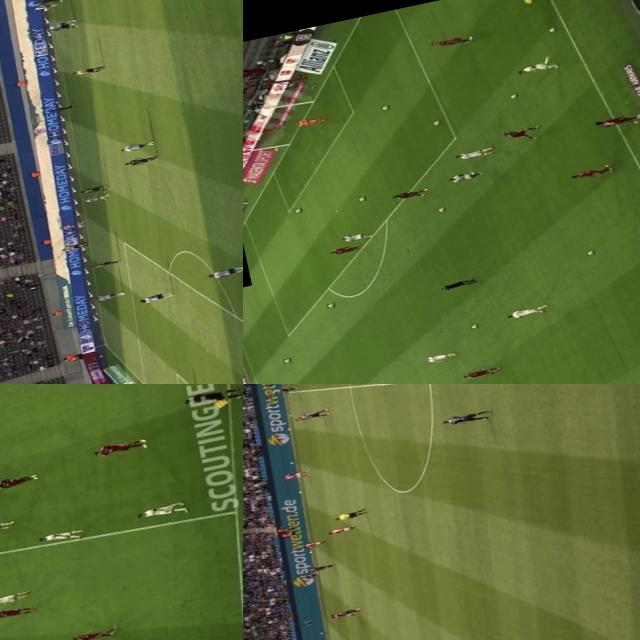ball: (434, 204, 447, 212), (295, 205, 306, 213), (356, 194, 366, 202), (583, 248, 596, 254), (545, 26, 558, 32), (378, 104, 389, 110), (282, 354, 291, 361), (432, 118, 441, 125), (326, 302, 336, 308), (468, 322, 478, 328), (508, 92, 515, 96), (64, 222, 70, 226)
player: (92, 431, 152, 459), (30, 522, 84, 548), (134, 497, 188, 522), (441, 406, 494, 428), (500, 121, 544, 142), (0, 467, 39, 490), (70, 621, 116, 640), (517, 54, 559, 74), (429, 31, 476, 48), (506, 301, 553, 318), (569, 162, 613, 179), (205, 262, 243, 280), (118, 137, 158, 153), (388, 184, 427, 200), (422, 348, 462, 363), (596, 114, 636, 128), (0, 586, 28, 606), (122, 152, 159, 167), (455, 143, 492, 158), (0, 602, 31, 619), (297, 406, 332, 421), (88, 288, 125, 302), (139, 289, 170, 305), (339, 228, 374, 242), (56, 216, 84, 232), (44, 16, 76, 30), (291, 408, 322, 422), (330, 242, 366, 254), (85, 256, 120, 268), (464, 364, 494, 378), (448, 168, 478, 182), (77, 182, 109, 194), (76, 193, 110, 204), (43, 21, 73, 33), (329, 608, 359, 620), (0, 513, 14, 538), (29, 1, 58, 13), (302, 536, 330, 548), (296, 114, 326, 125), (331, 606, 364, 616), (270, 384, 299, 395), (46, 102, 74, 113), (308, 560, 336, 571), (282, 468, 310, 479), (328, 523, 358, 533), (33, 0, 62, 8), (301, 568, 320, 580)
